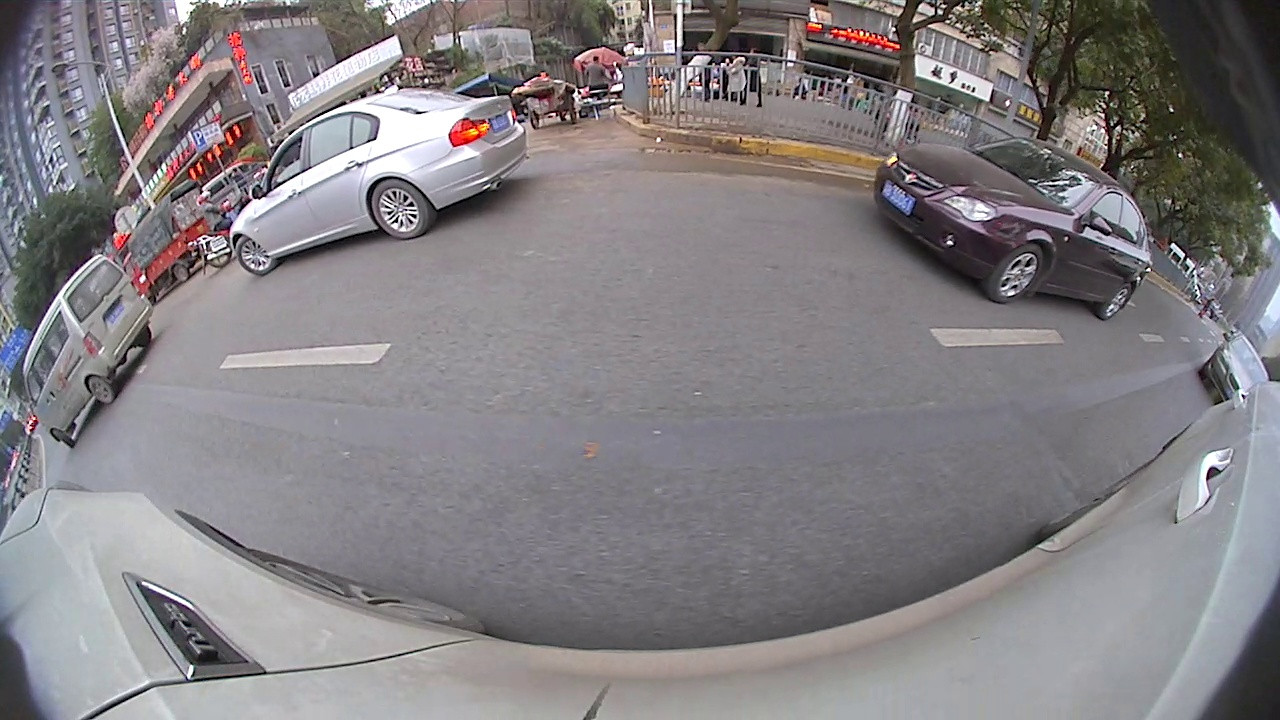car: (224, 86, 532, 279), (867, 136, 1157, 324), (18, 253, 156, 448), (1195, 328, 1273, 407)
front: (992, 242, 1044, 301), (231, 238, 277, 278)
rear: (366, 183, 434, 237), (1100, 277, 1131, 321), (83, 377, 115, 405)
